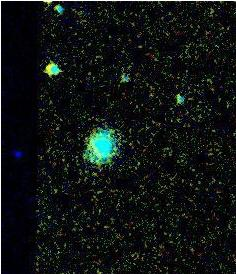star: (32, 0, 62, 16)
